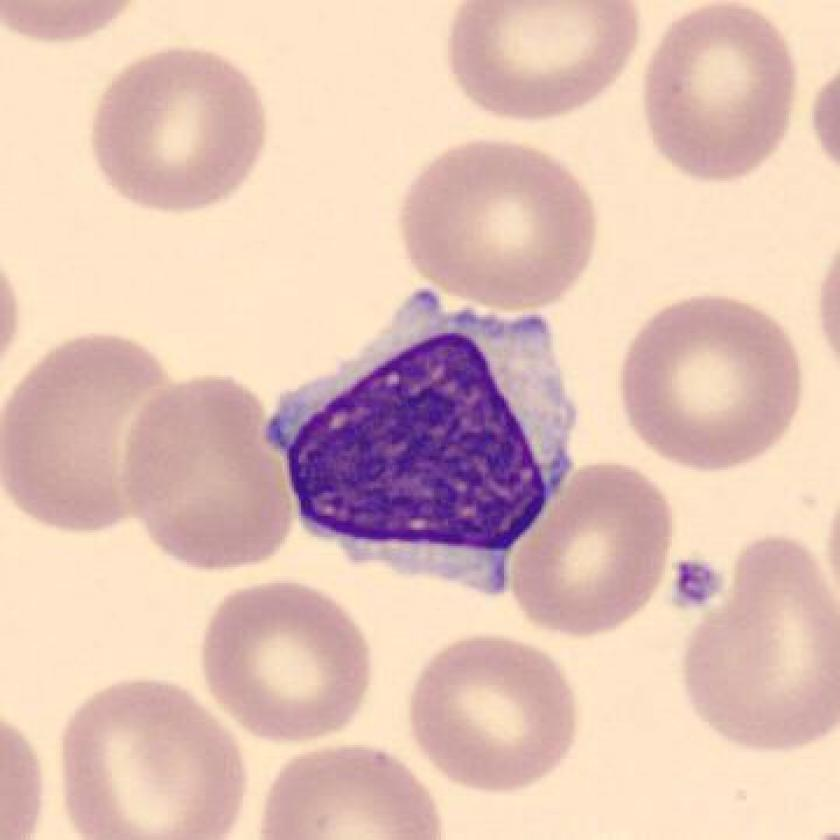lymphocyte: (251, 277, 605, 615)
